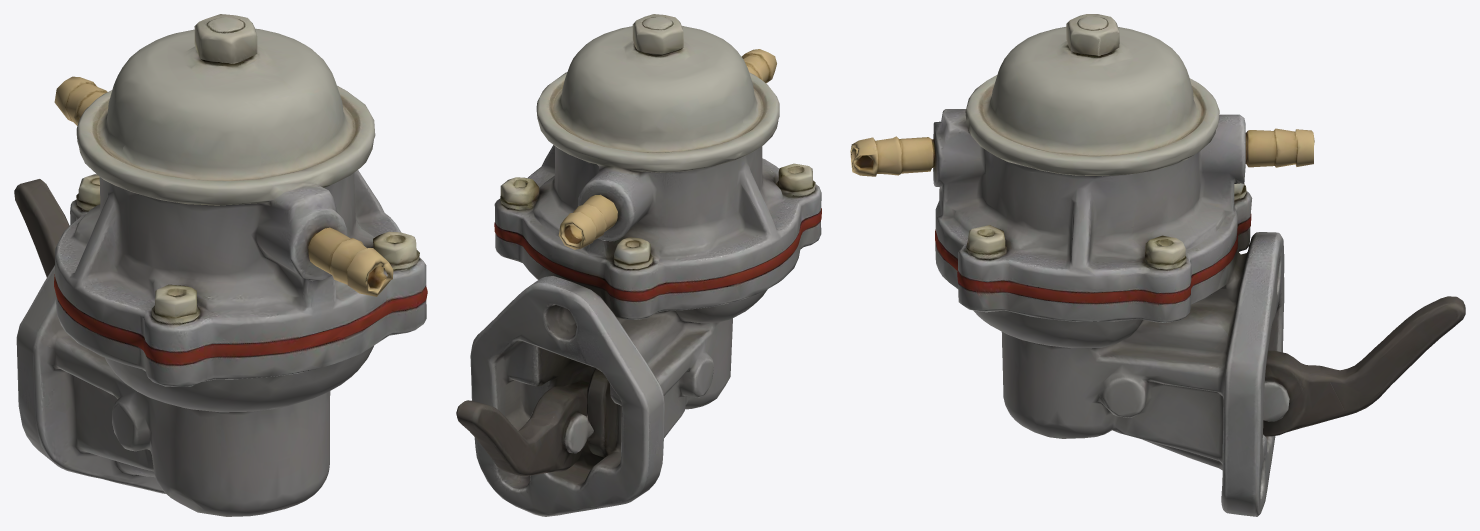
Rendered from fuel-pump.glb.
3 renders of one model, left to right at view 1: azimuth 30°, elevation 25°; view 2: azimuth 150°, elevation 25°; view 3: azimuth 270°, elevation 25°, orthographic. The views are drawn at different scales.
Parts seen in each view (by area): view 1: tripo_node_ab8df590-34ce-4cd6-8f8b-ec7beb399c18; view 2: tripo_node_ab8df590-34ce-4cd6-8f8b-ec7beb399c18; view 3: tripo_node_ab8df590-34ce-4cd6-8f8b-ec7beb399c18.
Boxes of the visible parts, x1=… form: tripo_node_ab8df590-34ce-4cd6-8f8b-ec7beb399c18: x1=14, y1=14, x2=427, y2=516; tripo_node_ab8df590-34ce-4cd6-8f8b-ec7beb399c18: x1=456, y1=14, x2=821, y2=516; tripo_node_ab8df590-34ce-4cd6-8f8b-ec7beb399c18: x1=850, y1=14, x2=1465, y2=516.
Size of the model in its own units: 0.4897 by 0.8321 by 1.
1 material, 1 textured.
